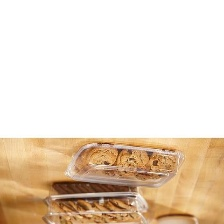plastic_box: (59, 138, 188, 192), (34, 176, 154, 224)
